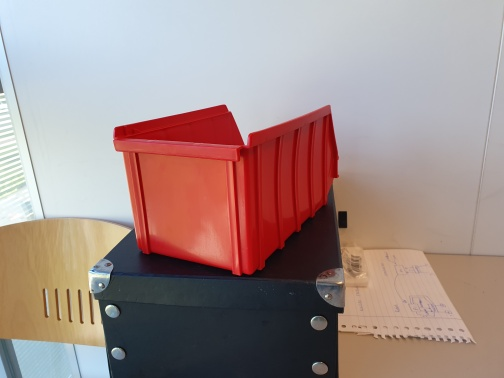tray_left: (245, 103, 339, 276)
